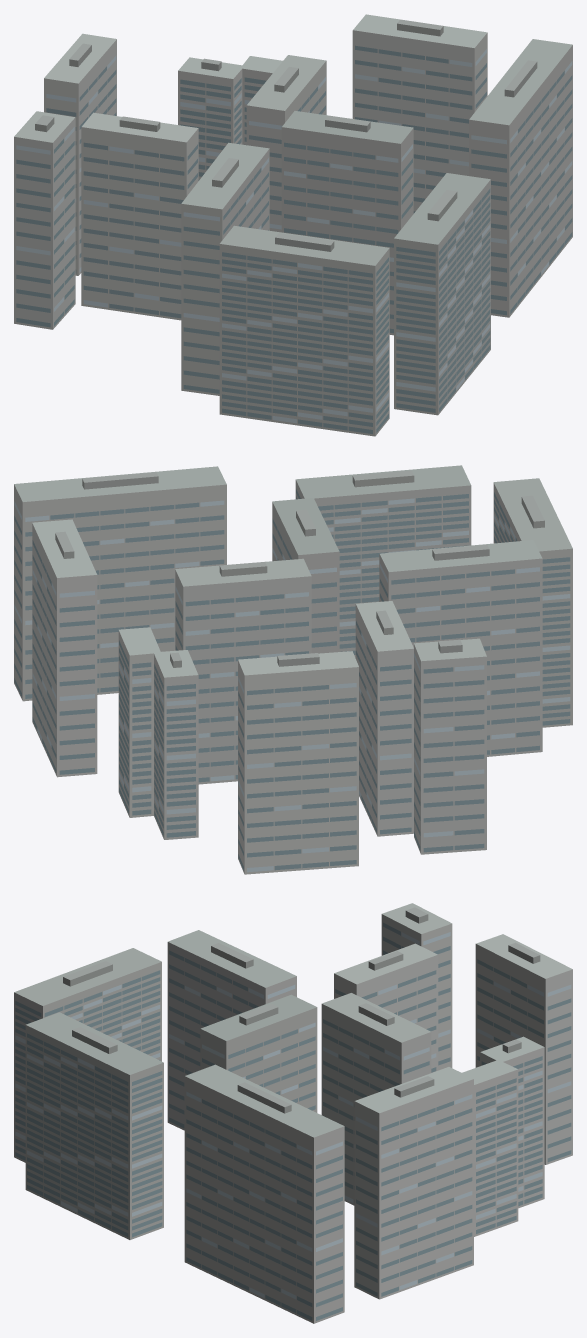
The model's file is apt-a15288813.glb.
The picture shows the model from 3 angles, top to bottom: view 1: azimuth 30°, elevation 25°; view 2: azimuth 150°, elevation 25°; view 3: azimuth 270°, elevation 25°; orthographic projection. The views are drawn at different scales.
Parts seen in each view (by area): view 1: apt-a15288813; view 2: apt-a15288813; view 3: apt-a15288813.
Part boxes in pixels (left/top/right/bottom): apt-a15288813: left=14, top=14, right=572, bottom=436; apt-a15288813: left=14, top=465, right=572, bottom=874; apt-a15288813: left=14, top=903, right=572, bottom=1323.
Bounding box in the file's own units: 195 × 73 × 192.
